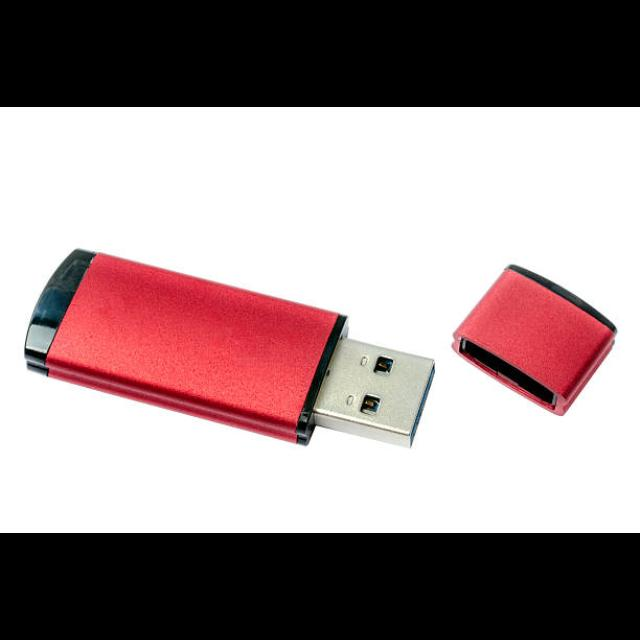USB-Flash-Drive: (24, 249, 435, 449)
